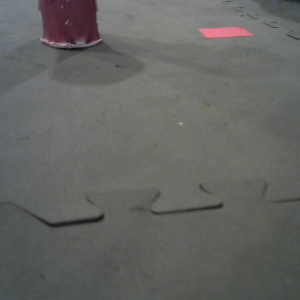middle: (8, 1, 82, 67)
